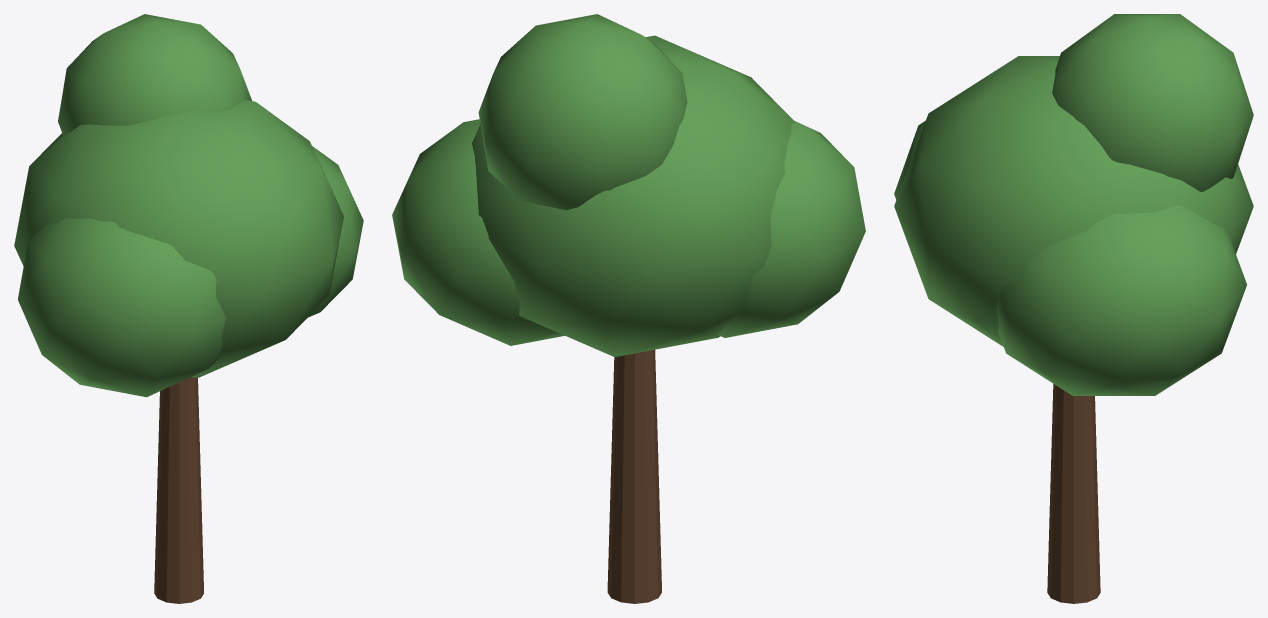
The model's file is tree.glb.
The picture shows the model from 3 angles, left to right: view 1: azimuth 30°, elevation 25°; view 2: azimuth 150°, elevation 25°; view 3: azimuth 270°, elevation 25°; orthographic projection. The views are drawn at different scales.
Parts seen in each view (by area): view 1: crown_1, crown_3, crown_4, trunk, crown_2; view 2: crown_1, crown_4, crown_2, crown_3, trunk; view 3: crown_1, crown_2, crown_4, trunk.
Part boxes in pixels (left/top/right/bottom): crown_1: left=14, top=100, right=343, bottom=378; crown_3: left=18, top=218, right=225, bottom=397; crown_4: left=58, top=14, right=251, bottom=135; trunk: left=154, top=377, right=203, bottom=603; crown_2: left=308, top=146, right=363, bottom=317; crown_1: left=472, top=35, right=795, bottom=357; crown_4: left=478, top=14, right=687, bottom=210; crown_2: left=392, top=119, right=564, bottom=345; crown_3: left=718, top=120, right=865, bottom=337; trunk: left=607, top=349, right=661, bottom=603; crown_1: left=894, top=56, right=1253, bottom=346; crown_2: left=996, top=205, right=1246, bottom=395; crown_4: left=1052, top=14, right=1253, bottom=191; trunk: left=1047, top=384, right=1100, bottom=603.
Size of what is drawn, in the model's own units: 3.25 by 4.8 by 2.7.
